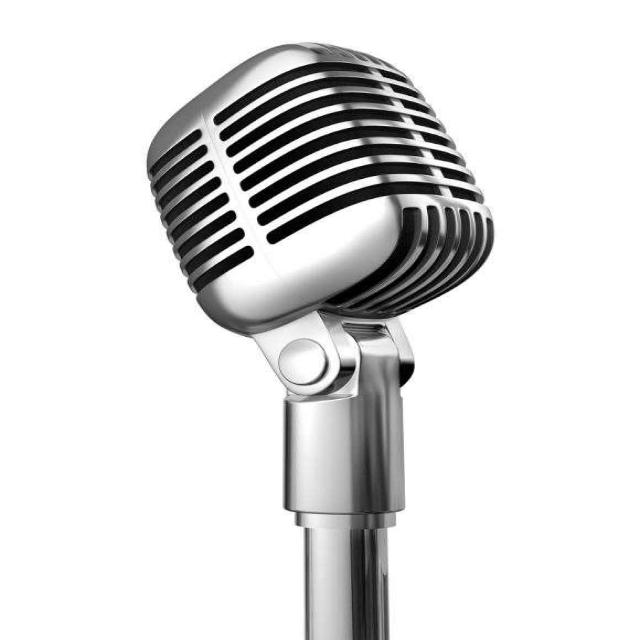microphone: (144, 19, 553, 505)
